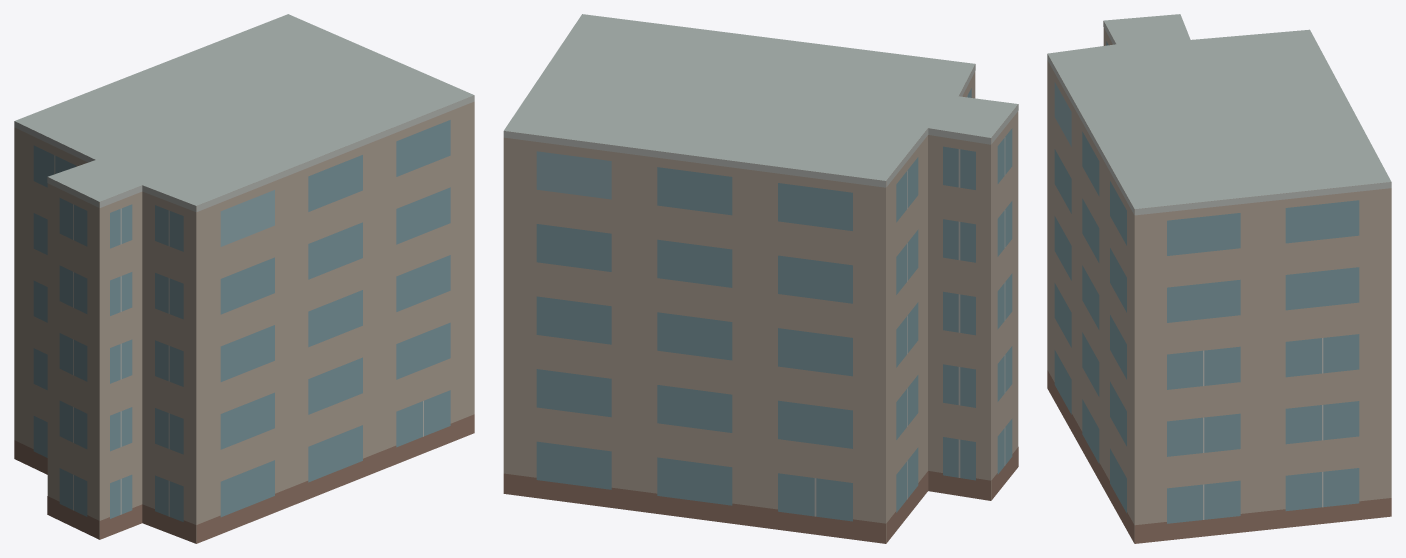
File: survey-upis-32812414.glb
3 renders of one model, left to right at view 1: azimuth 30°, elevation 25°; view 2: azimuth 150°, elevation 25°; view 3: azimuth 270°, elevation 25°, orthographic. The views are drawn at different scales.
Visible parts, largest first — view 1: survey-upis-32812414.tmp; view 2: survey-upis-32812414.tmp; view 3: survey-upis-32812414.tmp.
Boxes of the visible parts, x1,y1,x2,y2 form: survey-upis-32812414.tmp: [14, 14, 474, 543]; survey-upis-32812414.tmp: [503, 14, 1018, 543]; survey-upis-32812414.tmp: [1047, 14, 1391, 543].
Size of the model in its own units: 16.4 by 13.1 by 12.22.
